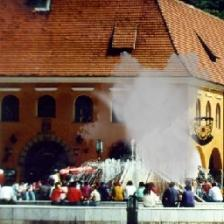fire: (76, 47, 217, 194)
